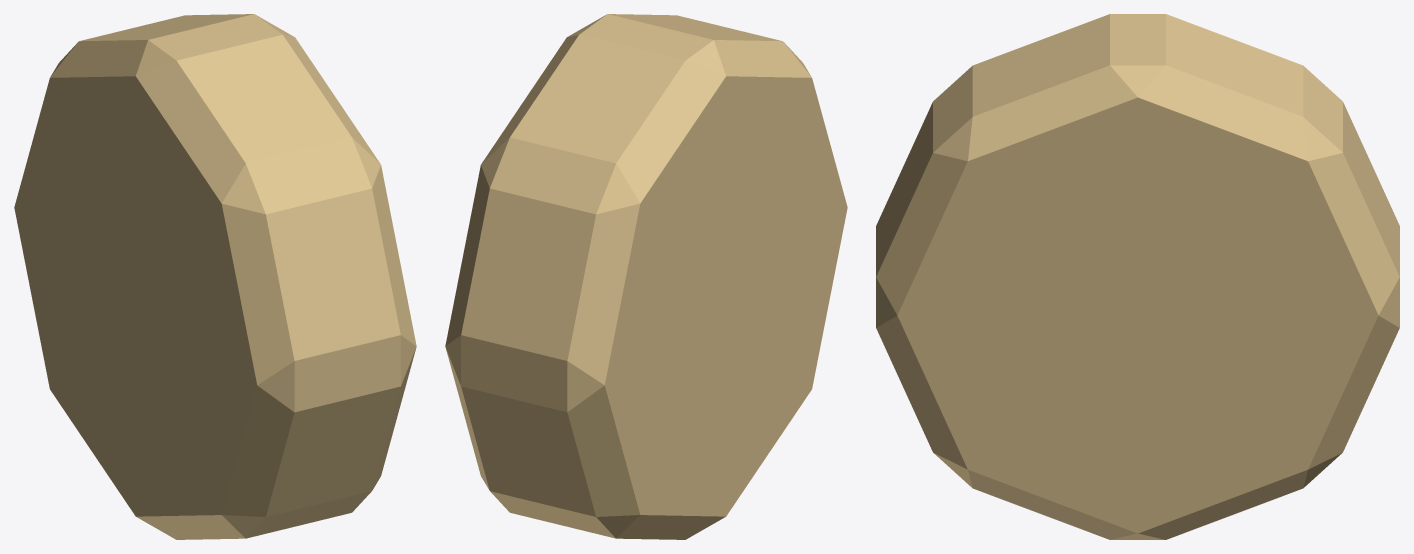
Rendered from Flange.fbx.
3 renders of one model, left to right at view 1: azimuth 30°, elevation 25°; view 2: azimuth 150°, elevation 25°; view 3: azimuth 270°, elevation 25°, orthographic.
Parts seen in each view (by area): view 1: Flange; view 2: Flange; view 3: Flange.
Part boxes in pixels (x1,y1,x2,y2): Flange: (14, 14, 416, 539); Flange: (445, 14, 847, 539); Flange: (876, 14, 1399, 539).
Size of the model in its own units: 0.06 by 0.1723 by 0.1723.
